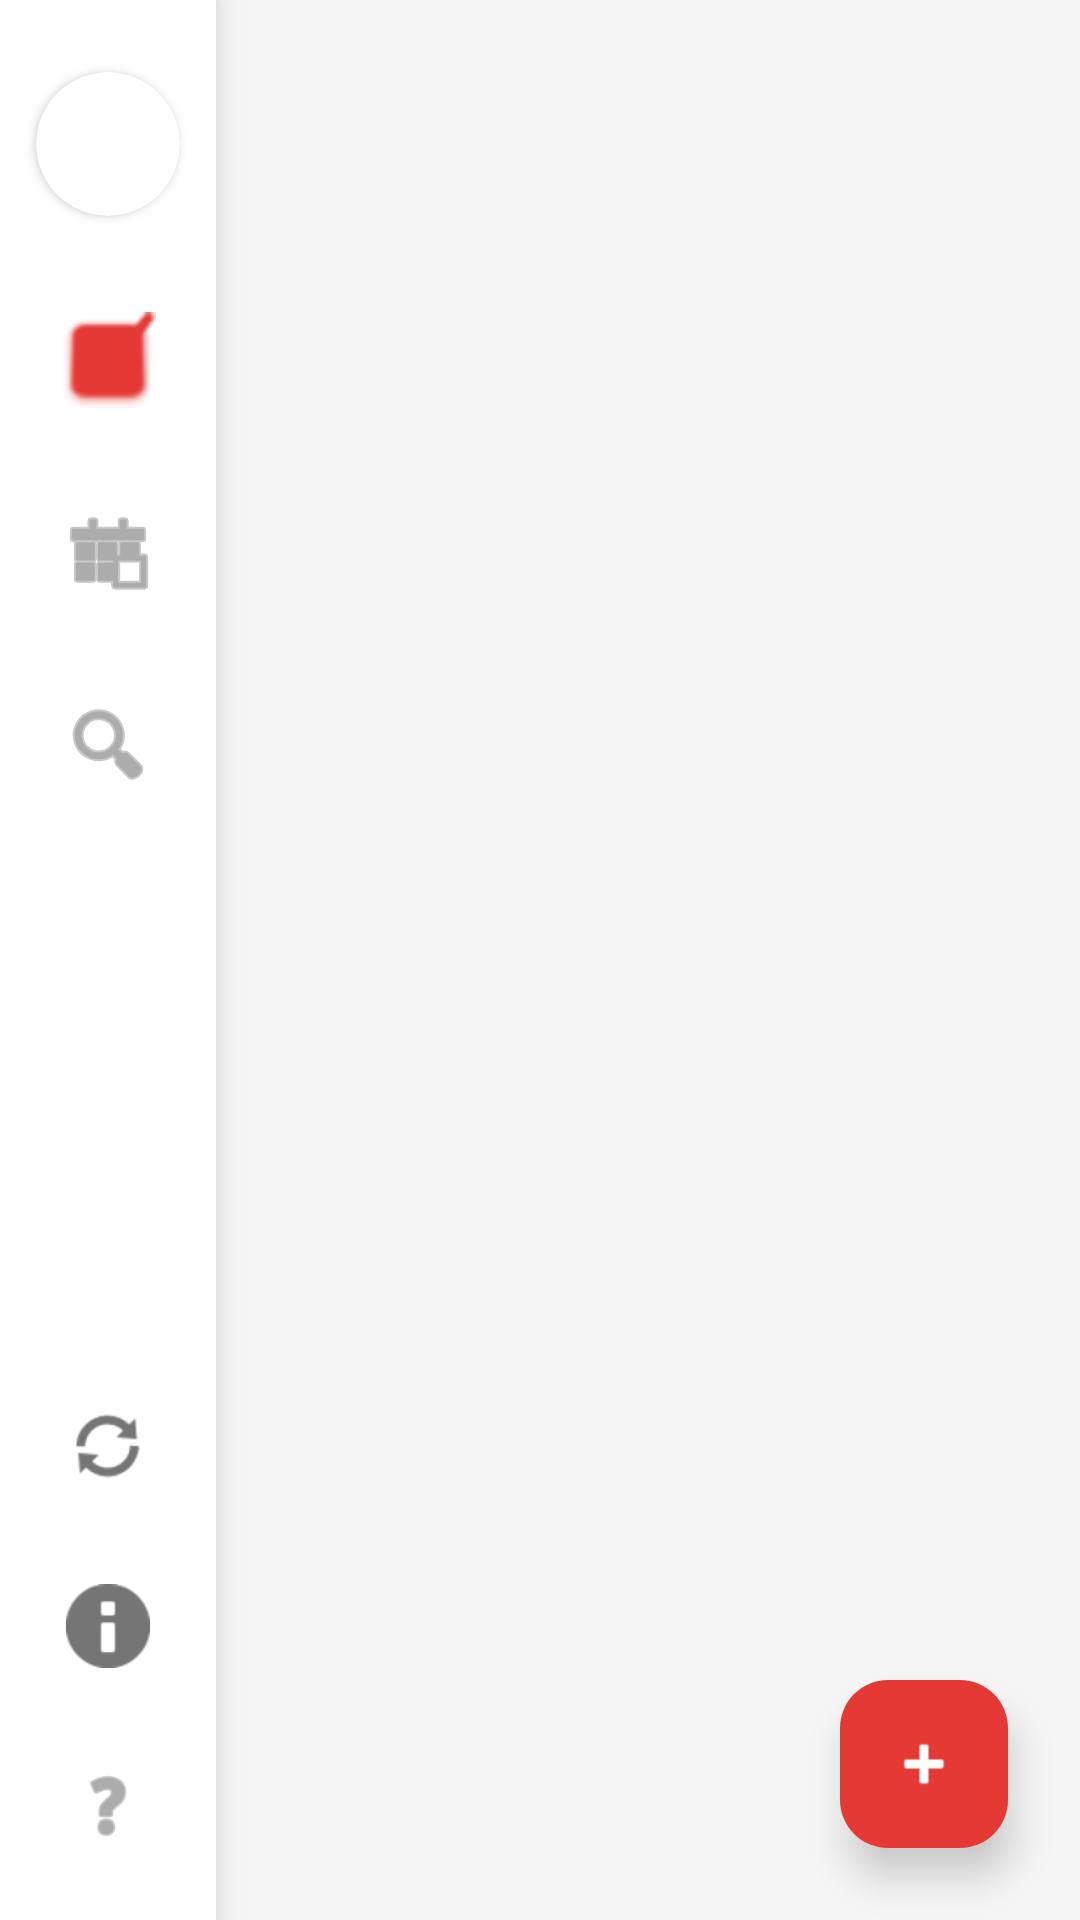

Named icons in this screenshot (1080px x 1920px) and their bounding boxes, detection(x1, y1, x2, y2):
add: detection(840, 1680, 1008, 1848)
help: detection(90, 1776, 126, 1836)
info: detection(66, 1584, 150, 1668)
popup sync: detection(76, 1414, 140, 1478)
search: detection(73, 709, 143, 780)
today: detection(70, 517, 148, 590)
